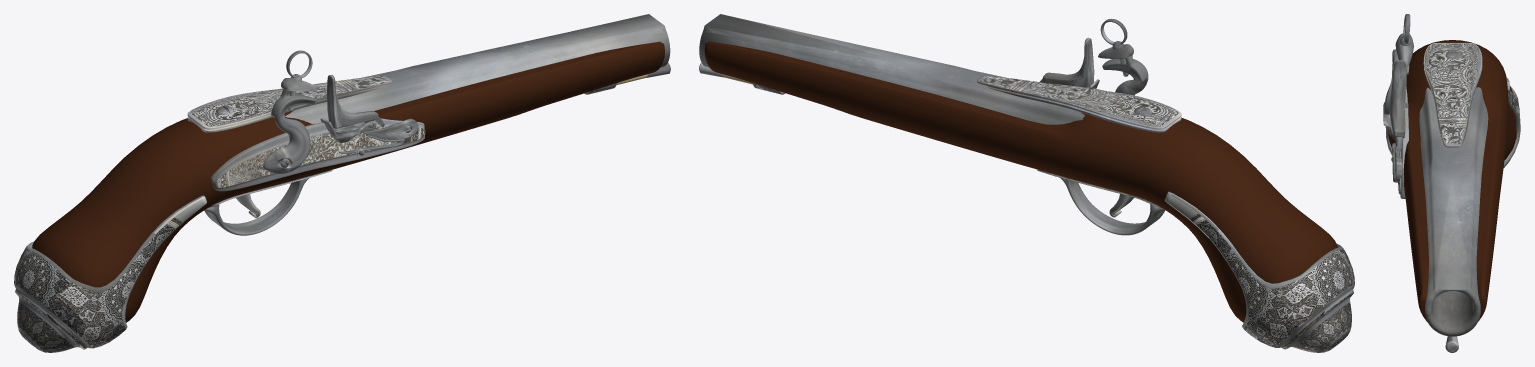
File: pistol.obj
3 views of the same model, side by side, from view 1: azimuth 30°, elevation 25°; view 2: azimuth 150°, elevation 25°; view 3: azimuth 270°, elevation 25° (orthographic). The views are drawn at different scales.
Parts seen in each view (by area): view 1: gun.002; view 2: gun.002; view 3: gun.002.
Boxes of the visible parts, x1,y1,x2,y2 form: gun.002: (14,14,670,352); gun.002: (699,14,1354,352); gun.002: (1383,14,1520,352).
Size of the model in its own units: 606 by 233 by 107.
